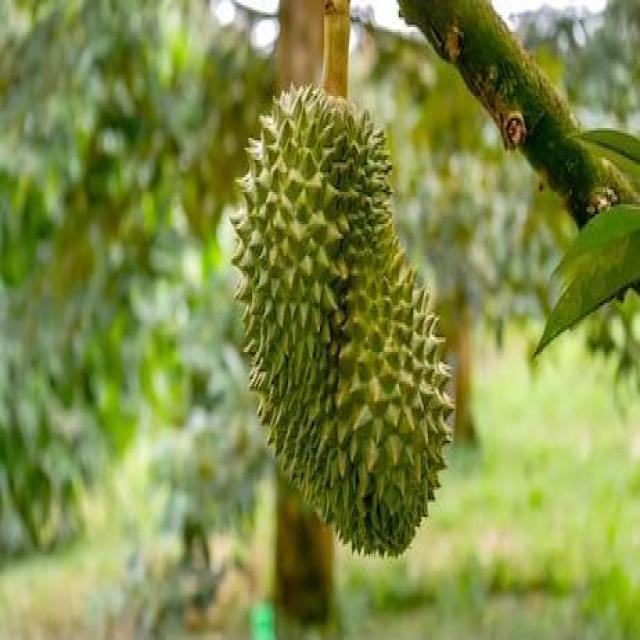immature: (229, 83, 453, 569)
